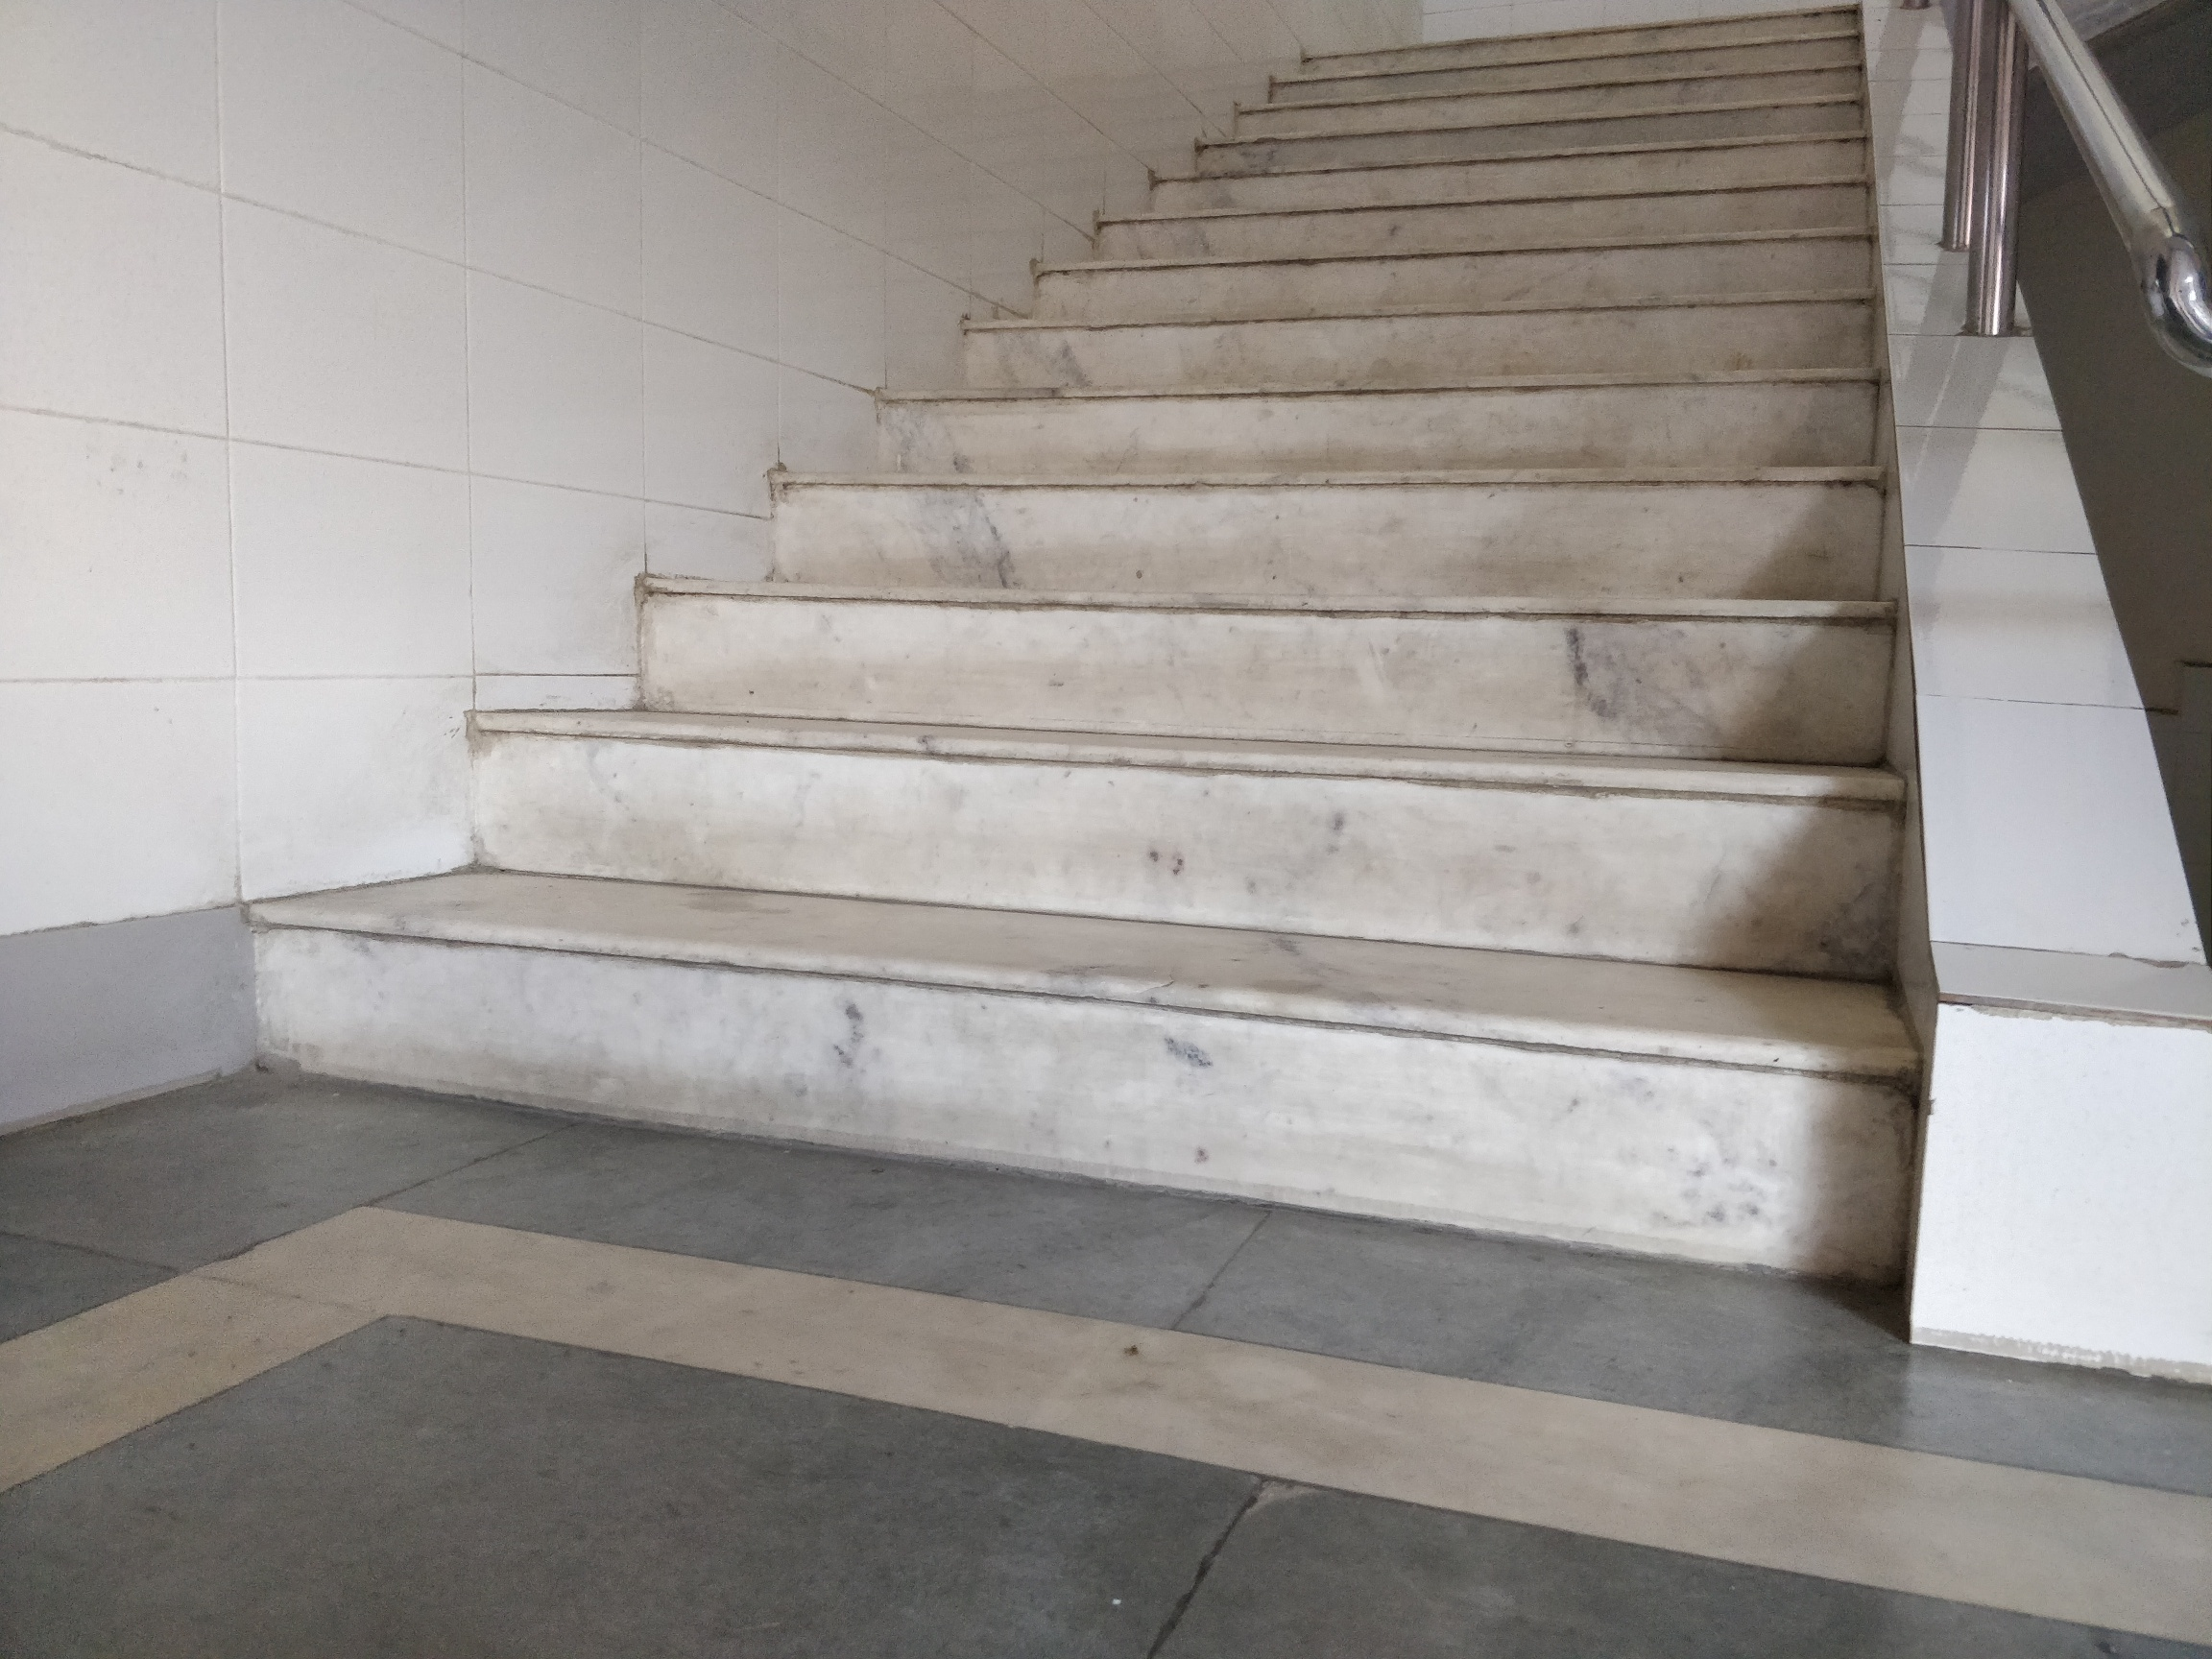stairs_up: (230, 12, 1881, 1363)
